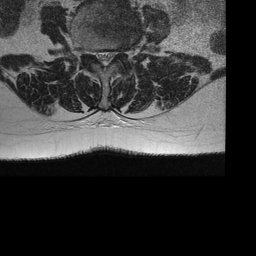CCS_stenosis: (102, 44, 108, 73)
LFS_severe_stenosis: (116, 44, 122, 62)
LLS_stenosis: (108, 46, 116, 65)
RFS_severe_stenosis: (88, 44, 96, 62)
RLS_normal: (95, 46, 102, 68)
